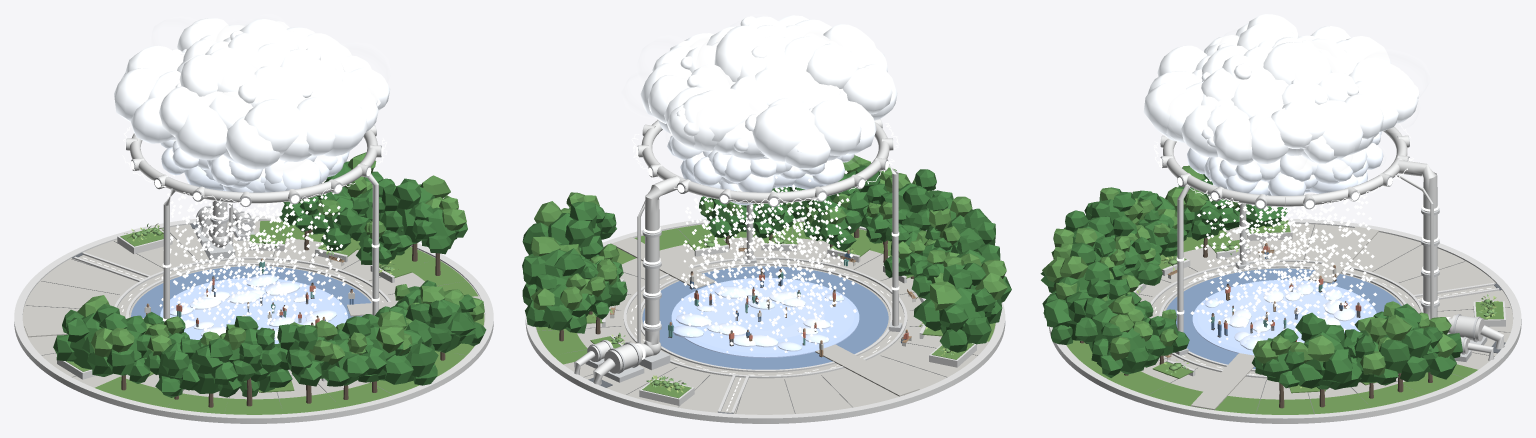
The model's file is q05c-snow-cloud-2127.glb.
The picture shows the model from 3 angles, left to right: view 1: azimuth 30°, elevation 25°; view 2: azimuth 150°, elevation 25°; view 3: azimuth 270°, elevation 25°; orthographic projection.
Parts seen in each view (by area): view 1: q05c_cloud, q05c_crown, q05c_pipe, q05c_plinth, q05c_lawn, q05c_crown_l, q05c_snowfield, q05c_frost, q05c_snow_a, q05c_snow_c, q05c_snow_b, q05c_pipe_b (+2 smaller); view 2: q05c_cloud, q05c_crown, q05c_plinth, q05c_pipe, q05c_snowfield, q05c_crown_l, q05c_frost, q05c_lawn, q05c_snow_a, q05c_snow_c, q05c_snow_b, q05c_pipe_b (+4 smaller); view 3: q05c_cloud, q05c_crown, q05c_pipe, q05c_plinth, q05c_crown_l, q05c_lawn, q05c_snowfield, q05c_frost, q05c_snow_a, q05c_snow_b, q05c_snow_c, q05c_fog (+3 smaller).
Boxes of the visible parts, x1,y1,x2,y2 form: q05c_cloud: (114, 18, 390, 192); q05c_crown: (53, 161, 486, 397); q05c_pipe: (14, 125, 493, 423); q05c_plinth: (22, 220, 485, 399); q05c_lawn: (66, 221, 484, 414); q05c_crown_l: (77, 152, 484, 364); q05c_snowfield: (160, 275, 347, 343); q05c_frost: (131, 266, 371, 318); q05c_snow_a: (159, 193, 341, 331); q05c_snow_c: (170, 175, 345, 340); q05c_snow_b: (161, 179, 346, 331); q05c_pipe_b: (126, 125, 381, 259); q05c_cloud: (640, 15, 897, 205); q05c_crown: (522, 165, 1011, 352); q05c_plinth: (535, 221, 996, 414); q05c_pipe: (525, 119, 1005, 423); q05c_snowfield: (671, 277, 859, 357); q05c_crown_l: (531, 155, 1007, 310); q05c_frost: (642, 266, 888, 369); q05c_lawn: (536, 221, 995, 398); q05c_snow_a: (688, 170, 856, 349); q05c_snow_c: (681, 176, 848, 352); q05c_snow_b: (679, 175, 844, 351); q05c_pipe_b: (585, 119, 902, 382); q05c_cloud: (1143, 14, 1419, 195); q05c_crown: (1040, 174, 1462, 389); q05c_pipe: (1049, 127, 1521, 423); q05c_plinth: (1066, 223, 1513, 409); q05c_crown_l: (1042, 165, 1456, 375); q05c_lawn: (1066, 220, 1503, 414); q05c_snowfield: (1192, 280, 1376, 355); q05c_frost: (1166, 268, 1401, 368); q05c_snow_a: (1201, 193, 1372, 343); q05c_snow_b: (1190, 179, 1371, 339); q05c_snow_c: (1201, 179, 1376, 343); q05c_fog: (1227, 291, 1342, 339).
Size of the model in its own units: 49.77 by 37.19 by 49.36.
